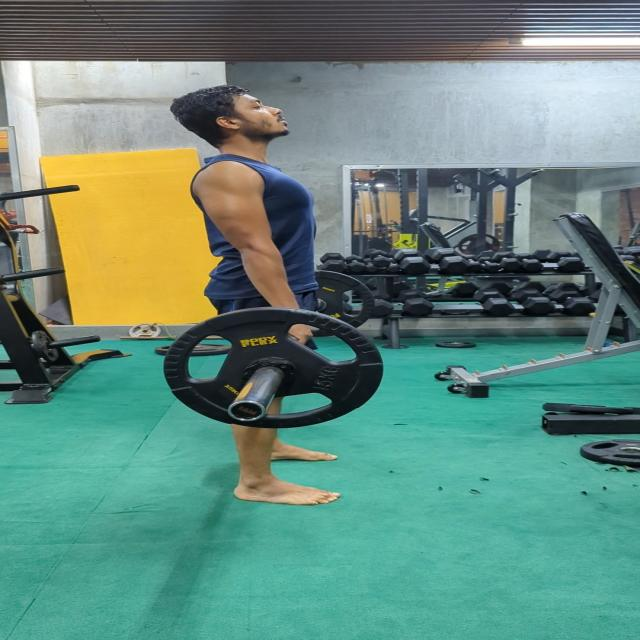Normal_Deadlifts: (165, 82, 354, 508)
